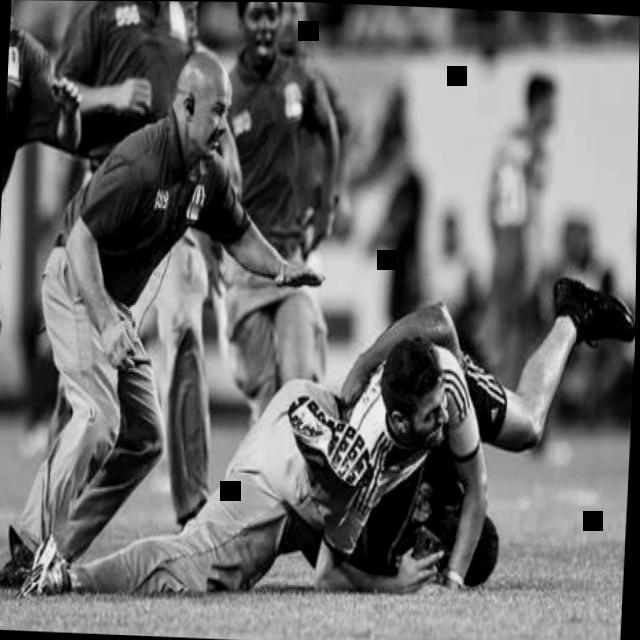Fall-Detected: (30, 351, 394, 606)
